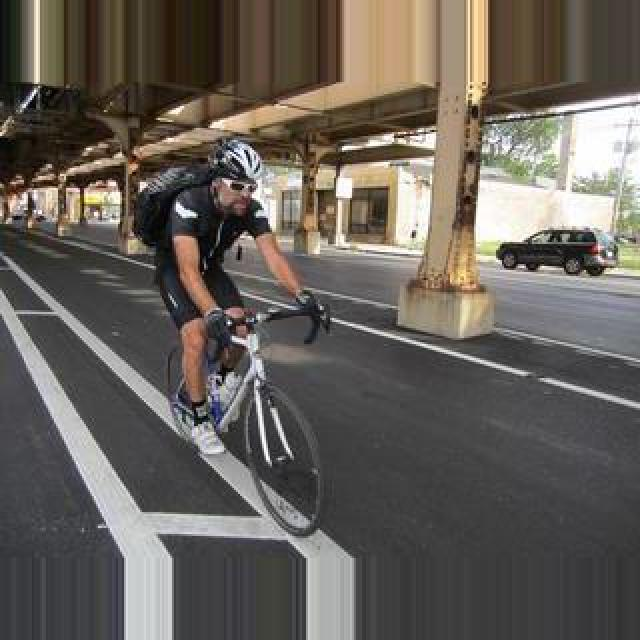Bus-Bike: (496, 228, 614, 276)
MC-Bike: (152, 142, 312, 452)
Person: (160, 291, 328, 539)
